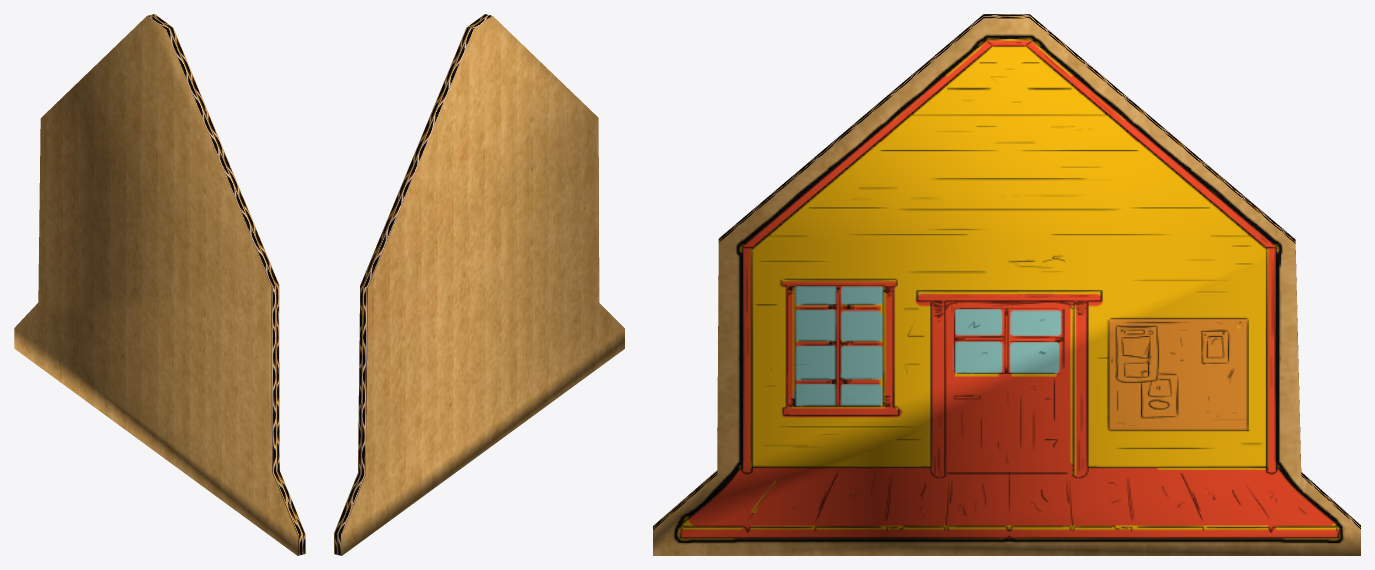
File: AST_GRAPH_Maison_GJ.fbx
3 views of the same model, side by side, from view 1: azimuth 30°, elevation 25°; view 2: azimuth 150°, elevation 25°; view 3: azimuth 270°, elevation 25° (orthographic). The views are drawn at different scales.
Visible parts, largest first — view 1: gj png laison; view 2: gj png laison; view 3: gj png laison.
Boxes of the visible parts, box(x1,y1,x2,y2) form: gj png laison: box(14, 14, 305, 555); gj png laison: box(334, 14, 624, 555); gj png laison: box(653, 14, 1360, 555).
Size of the model in its own units: 1.5 by 78.18 by 93.37.
